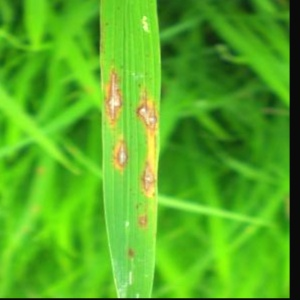Brown_Spot: (88, 60, 136, 125), (107, 128, 135, 173), (132, 92, 160, 137), (138, 158, 159, 198)
